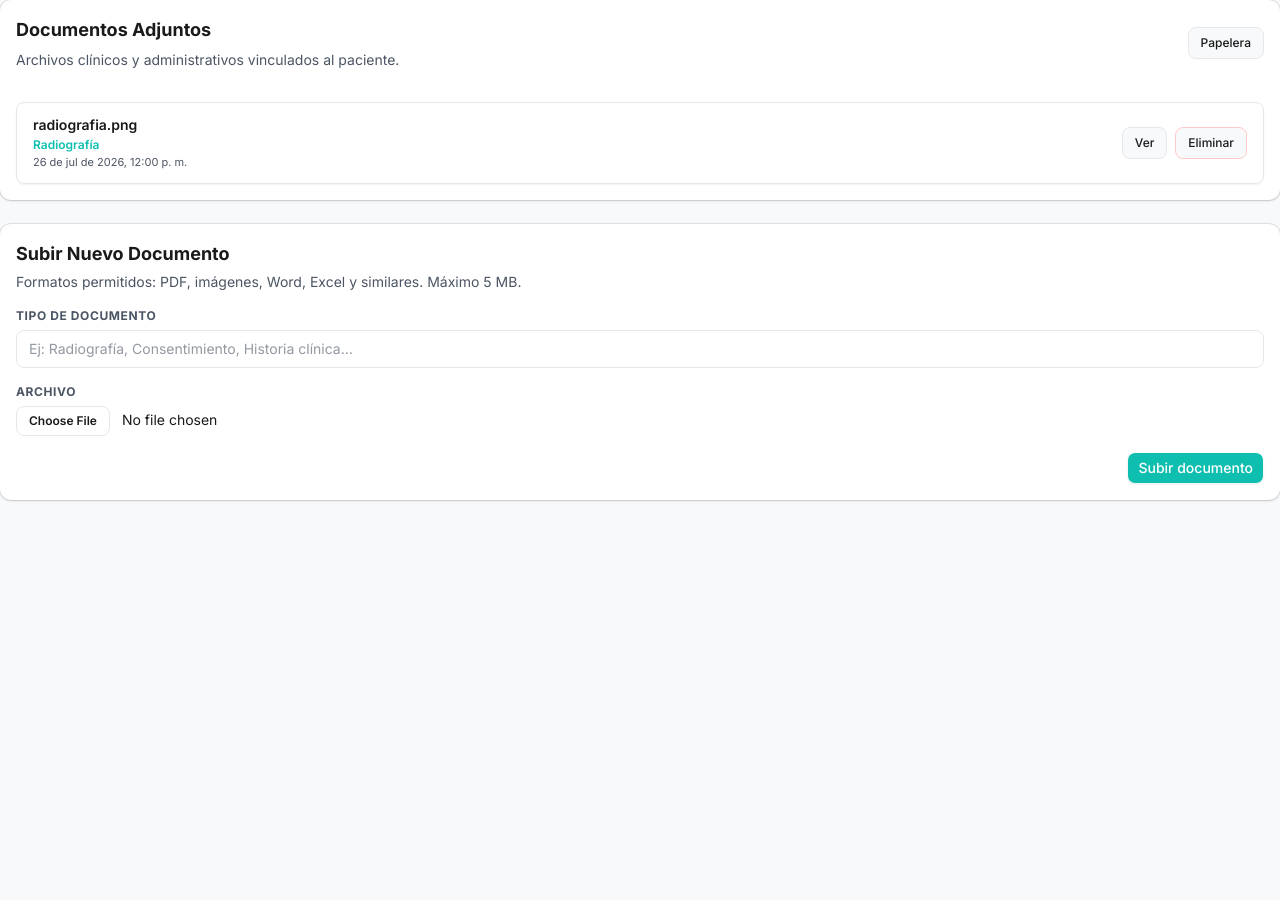
Test case: PatientDocuments Component › 2. should show delete button if canDelete is true, and clicking it opens the confirmation dialog
The image size is (1280, 900).
// Click delete button
Click the button "Eliminar".
click(1211, 143)  # box [1175, 127, 1247, 159]
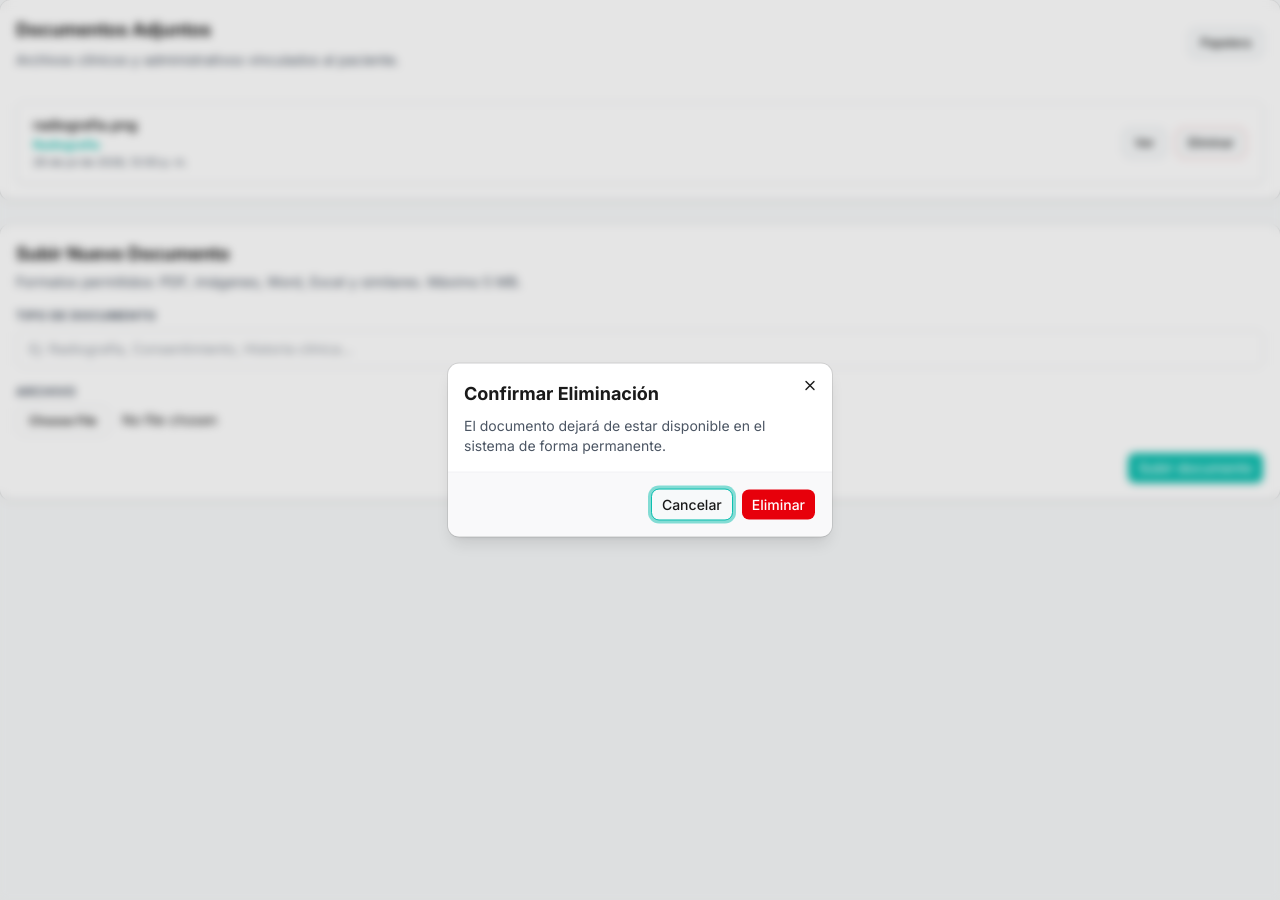
Expected: the heading "Confirmar Eliminación" is shown, [464, 382, 659, 404]
Expected: the text "El documento dejará de estar disponible en el sistema de forma permanente." is shown, [464, 416, 816, 456]
